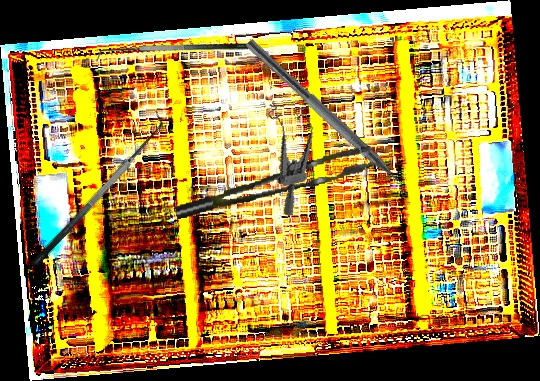Chopper: (234, 37, 421, 210)
Spatula Surgical: (18, 109, 173, 270), (96, 42, 249, 62)
Speculum: (259, 94, 332, 218)
Tissue Forceps: (170, 145, 378, 220)
